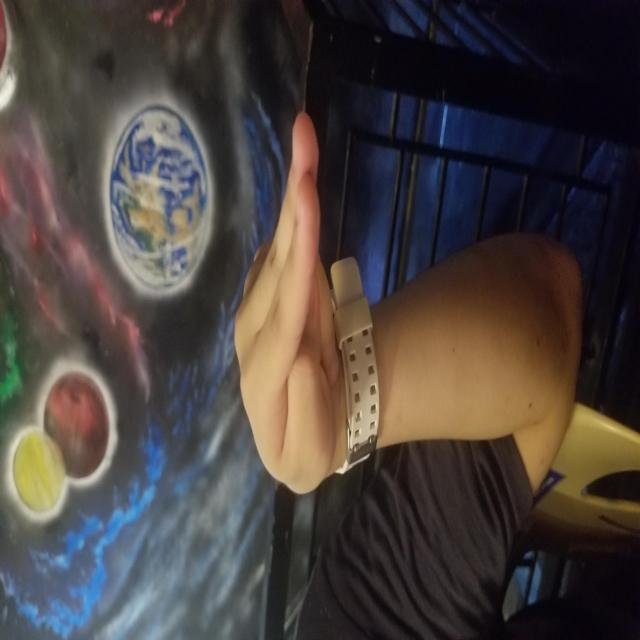N: (145, 232, 530, 343)
